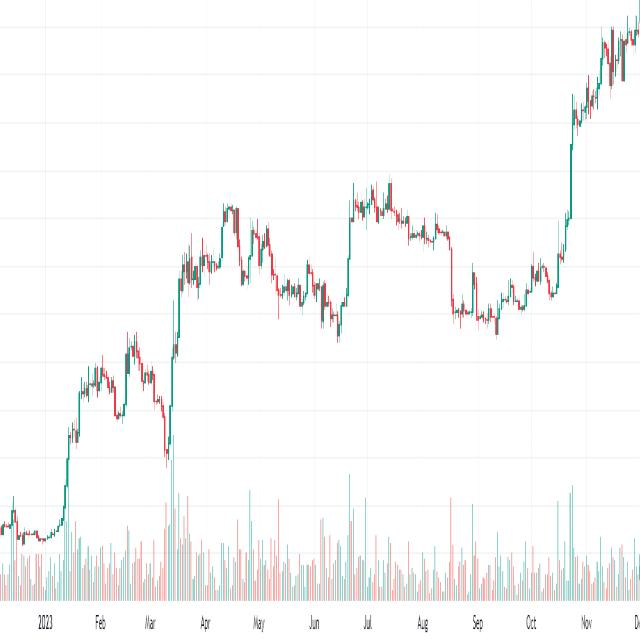Double-Top: (247, 201, 275, 304)
